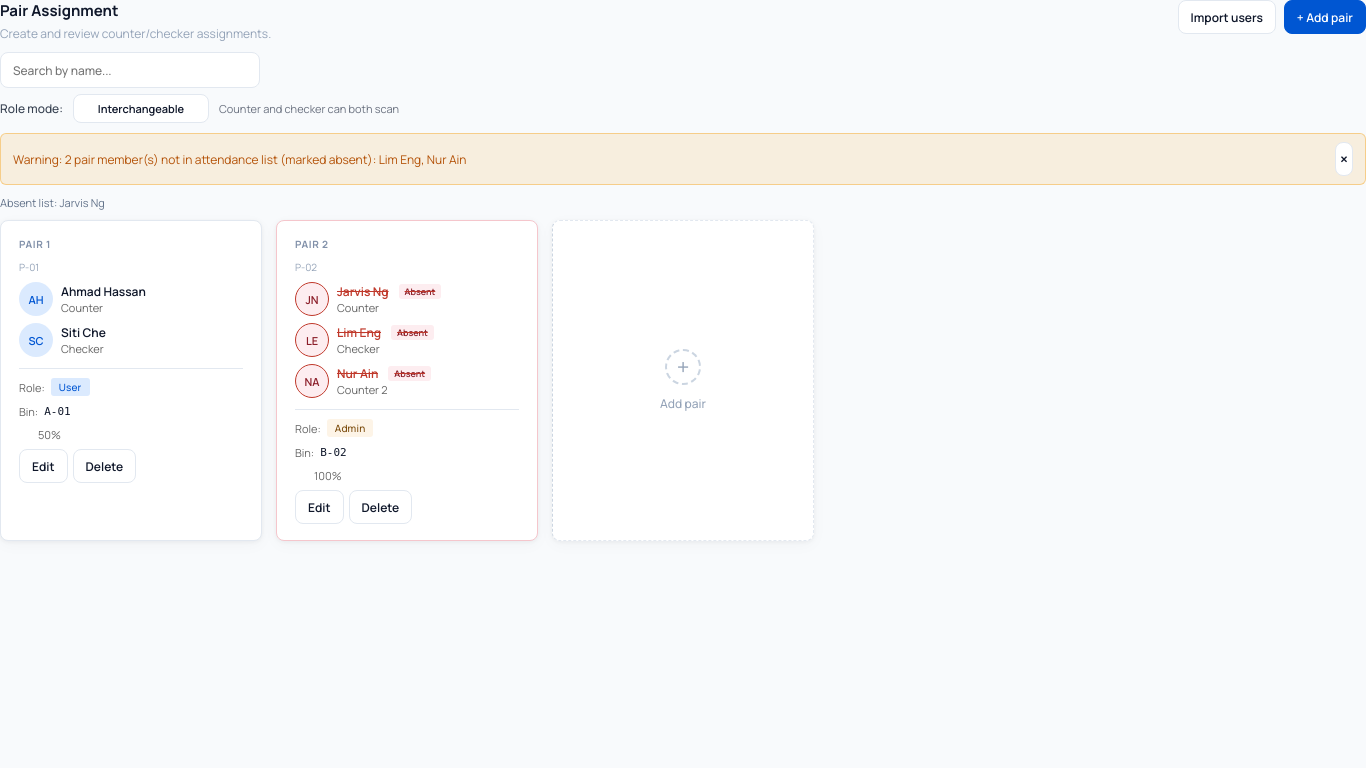
Scenario: PairAssignmentTab › opens recount drawer and filters assigned items
This screenshot has width=1366, height=768.
Click the text "P-01" at (29, 267), box [19,260,39,274]
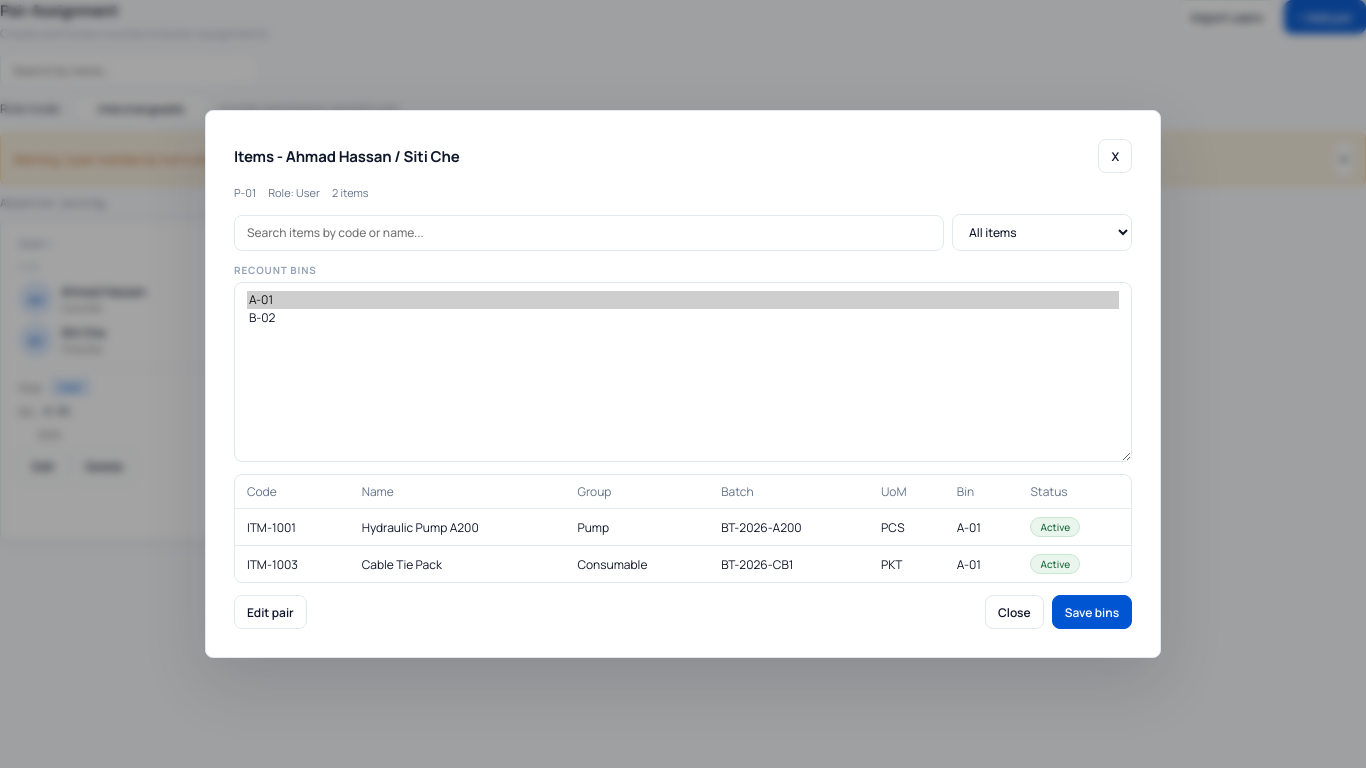
Now the text "ITM-1001" is shown, box [235,508,350,546]
Now the text "ITM-1003" is shown, box [235,546,350,582]
Type "ITM-1003" into the field named "Search drawer items" at (589, 232), box [234,214,944,250]
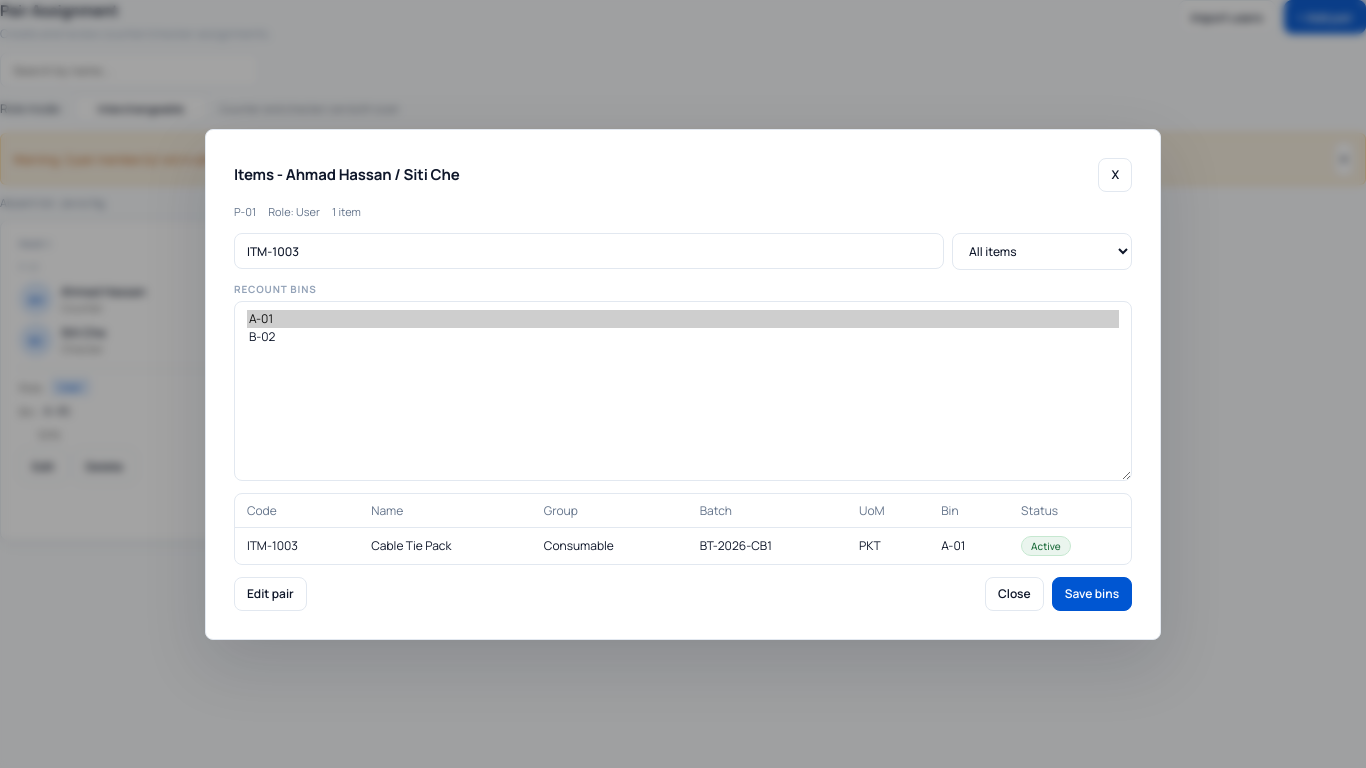
Now the text "ITM-1003" is shown, box [235,527,359,564]
Now the text "ITM-1001" is gone
